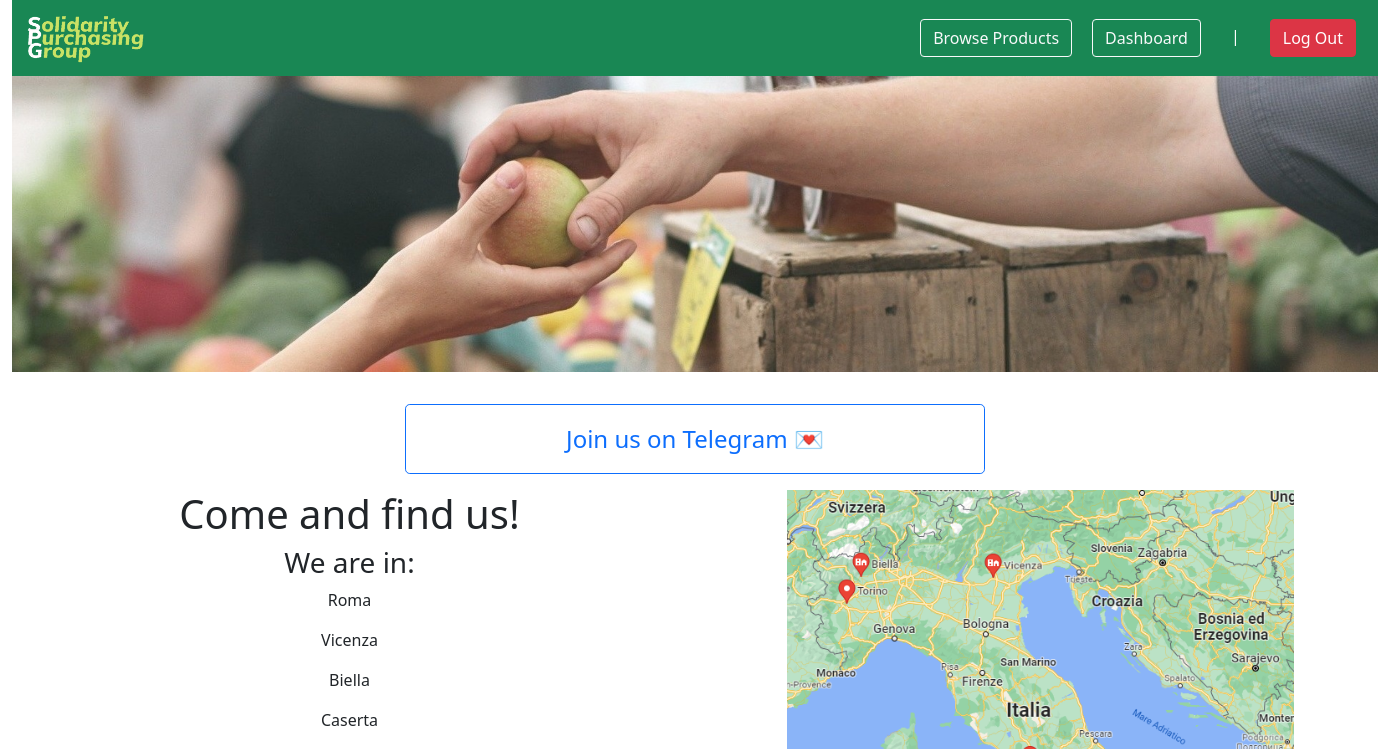
customer workflow › logout
The width and height of the screenshot is (1390, 749).
What coordinates should you click on to do the following:
click the button with id "logout"
I would click on:
 (1313, 38)
Its box is [1270,19,1356,57].
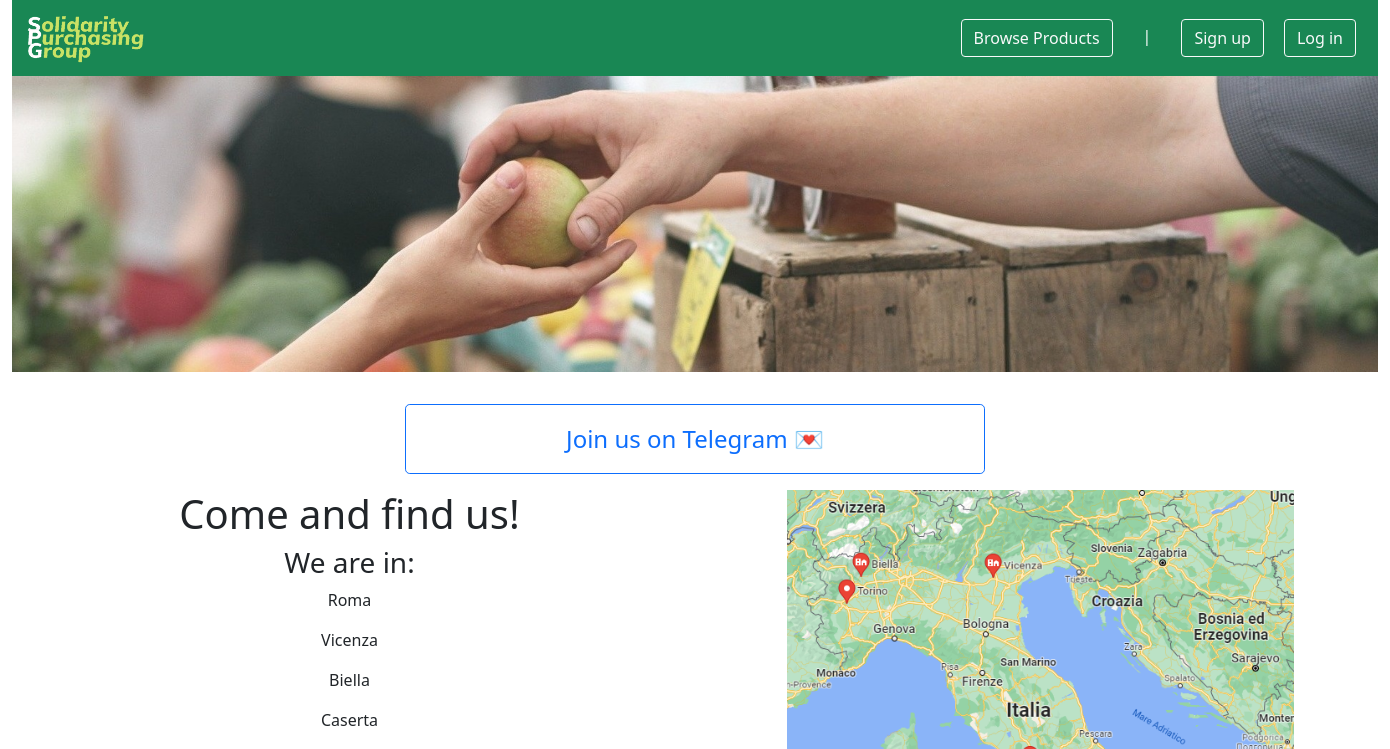
Expected: the button with id "login" is shown, [1284,19,1356,57]
